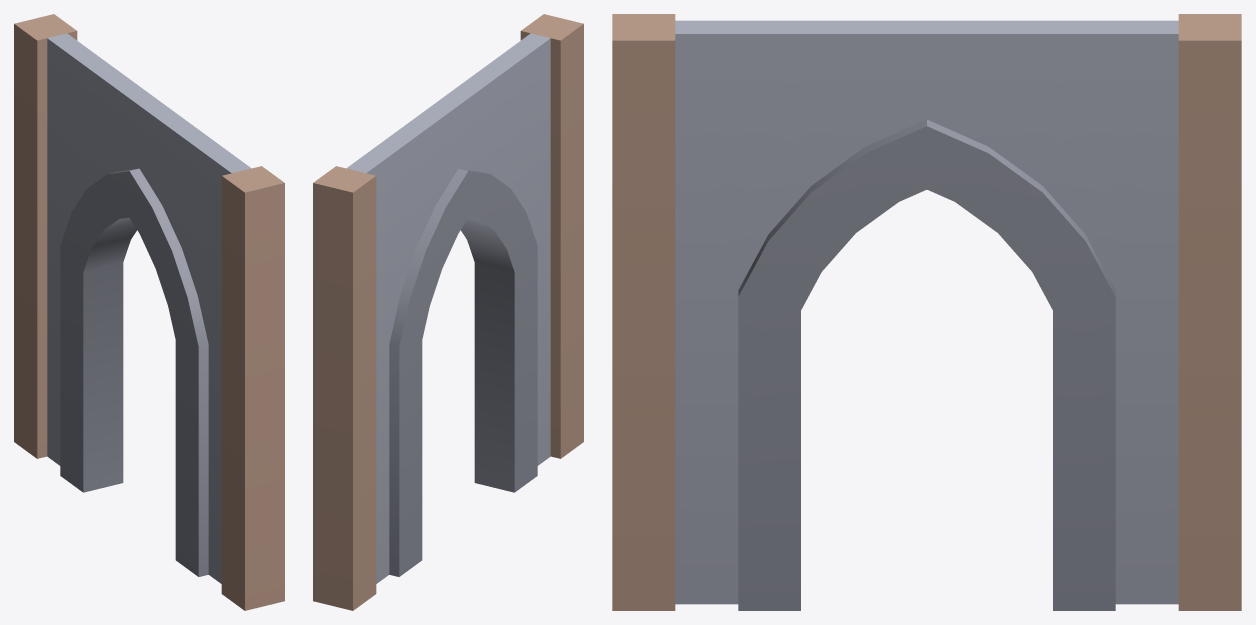
The model's file is wall-doorway-round.glb.
3 renders of one model, left to right at view 1: azimuth 30°, elevation 25°; view 2: azimuth 150°, elevation 25°; view 3: azimuth 270°, elevation 25°, orthographic. The views are drawn at different scales.
Visible parts, largest first — view 1: wall-doorway-round; view 2: wall-doorway-round; view 3: wall-doorway-round.
Part boxes in pixels (x1=…): wall-doorway-round: x1=14, y1=14, x2=284, y2=610; wall-doorway-round: x1=313, y1=14, x2=583, y2=610; wall-doorway-round: x1=612, y1=14, x2=1241, y2=610.
Size of the model in its own units: 0.1 by 1 by 1.
